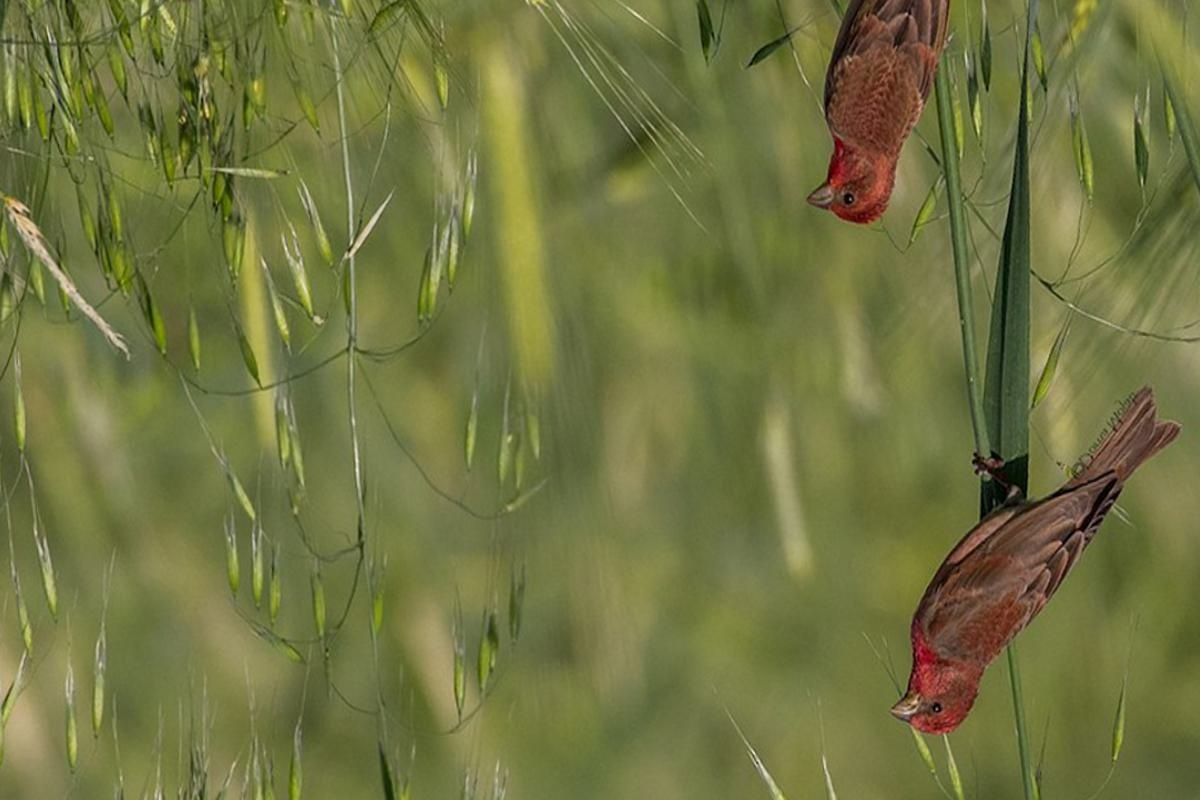rosefinch: (853, 370, 1181, 748), (771, 13, 973, 244)
